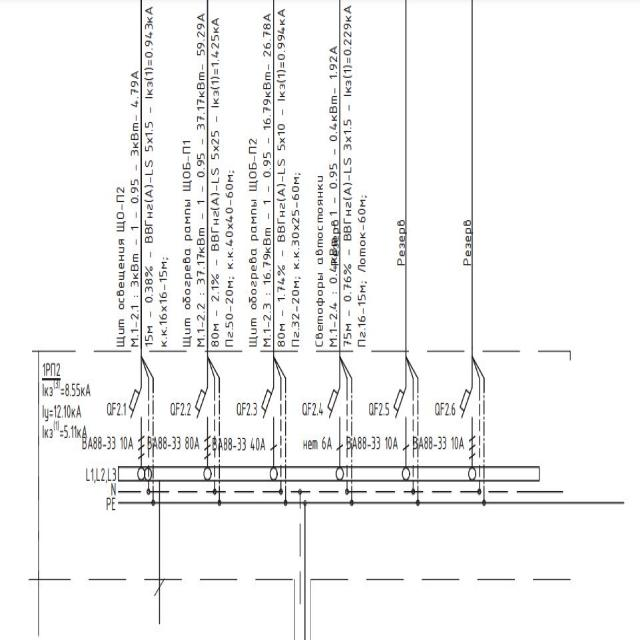-: (413, 431, 469, 453), (147, 434, 203, 456), (211, 432, 267, 454), (344, 433, 400, 455), (80, 433, 136, 455), (300, 434, 334, 456), (42, 362, 62, 381)
QF: (457, 383, 477, 461), (193, 383, 213, 461), (127, 384, 147, 462), (391, 382, 411, 452), (259, 383, 279, 453), (324, 382, 344, 452)
